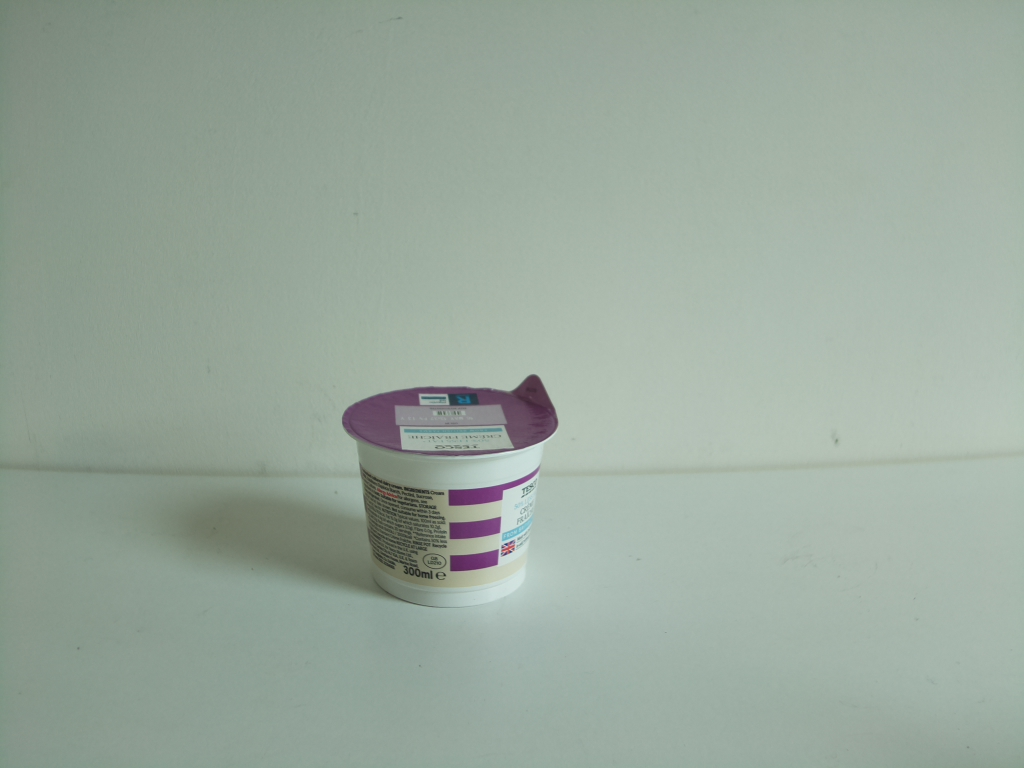cream: (342, 373, 561, 610)
